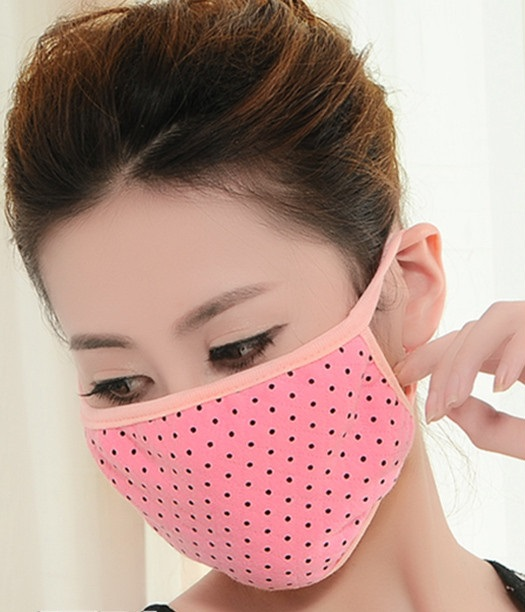face_mask: (50, 164, 384, 587)
